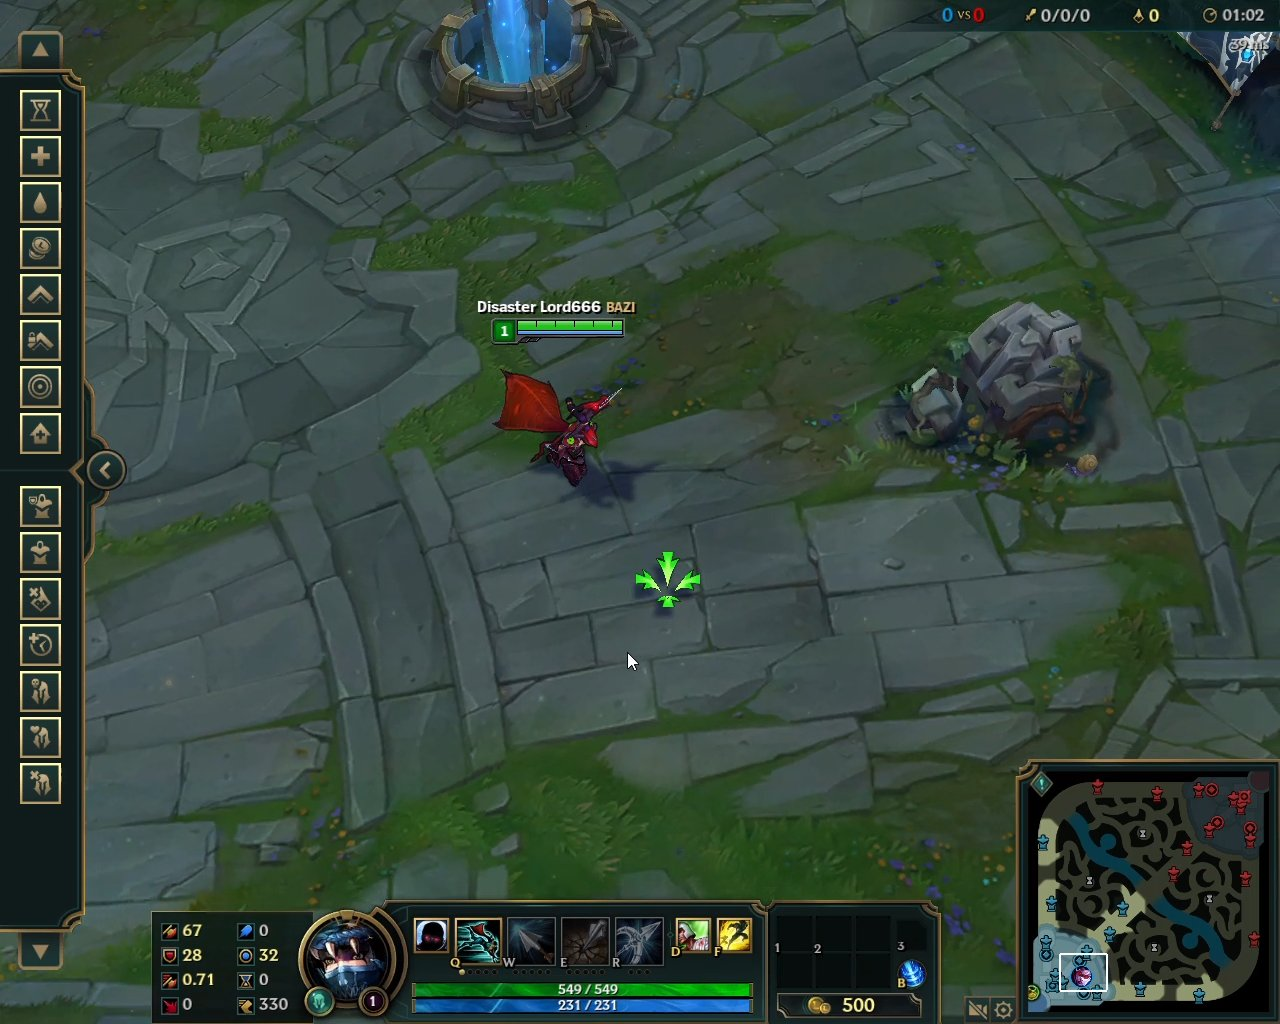Vayne: (489, 364, 626, 491)
